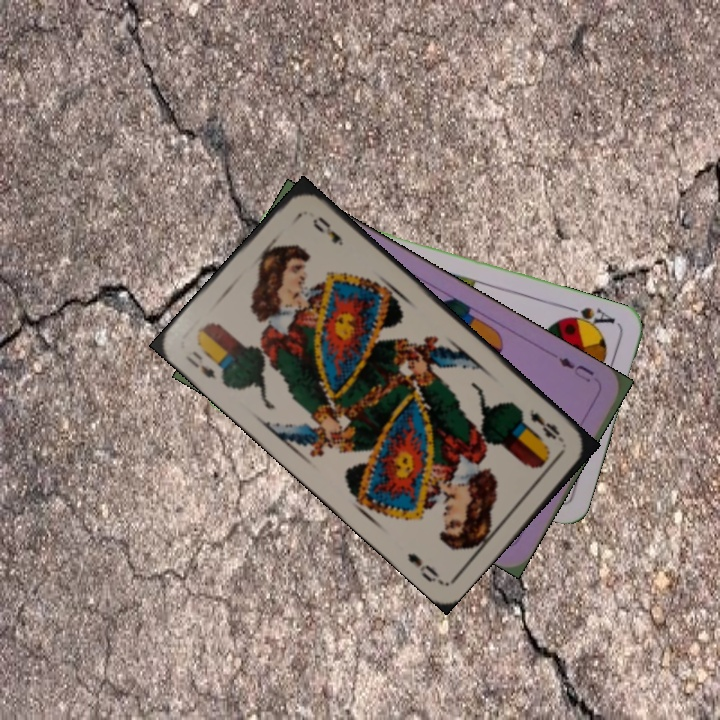EO: (525, 404, 568, 445), (182, 346, 220, 383)
EU: (554, 353, 597, 386)
SA: (559, 301, 618, 332)
